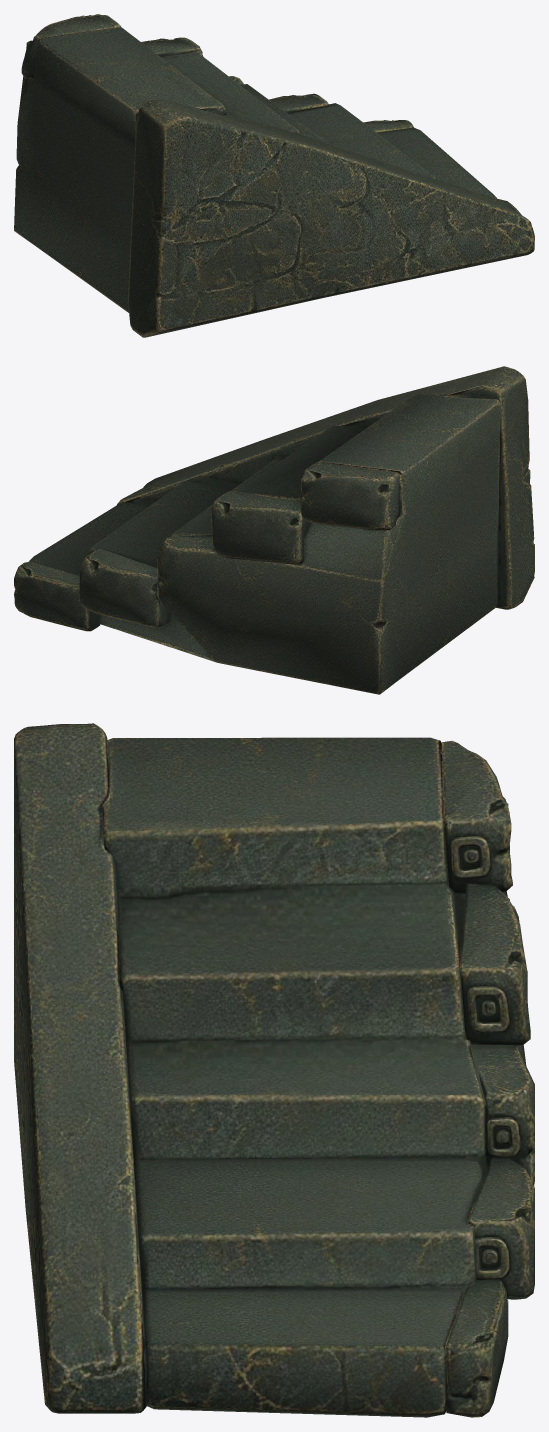
File: stone-stair-b.glb
3 views of the same model, one above another, from view 1: azimuth 30°, elevation 25°; view 2: azimuth 150°, elevation 25°; view 3: azimuth 270°, elevation 25° (orthographic). The views are drawn at different scales.
Visible parts, largest first — view 1: tripo_node_6a6453dc-4c1e-48b3-8261-6ad621101621; view 2: tripo_node_6a6453dc-4c1e-48b3-8261-6ad621101621; view 3: tripo_node_6a6453dc-4c1e-48b3-8261-6ad621101621.
Part boxes in pixels (x1,y1,x2,y2): tripo_node_6a6453dc-4c1e-48b3-8261-6ad621101621: (14, 14, 534, 337); tripo_node_6a6453dc-4c1e-48b3-8261-6ad621101621: (14, 366, 534, 694); tripo_node_6a6453dc-4c1e-48b3-8261-6ad621101621: (14, 723, 534, 1417).
Bounding box in the file's own units: 0.998 × 0.5762 × 0.6895.
Materials: 1 (1 with a texture image).
